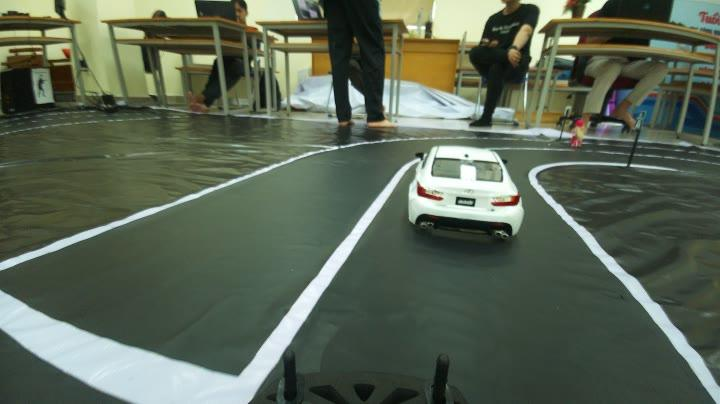car: (402, 140, 528, 243)
